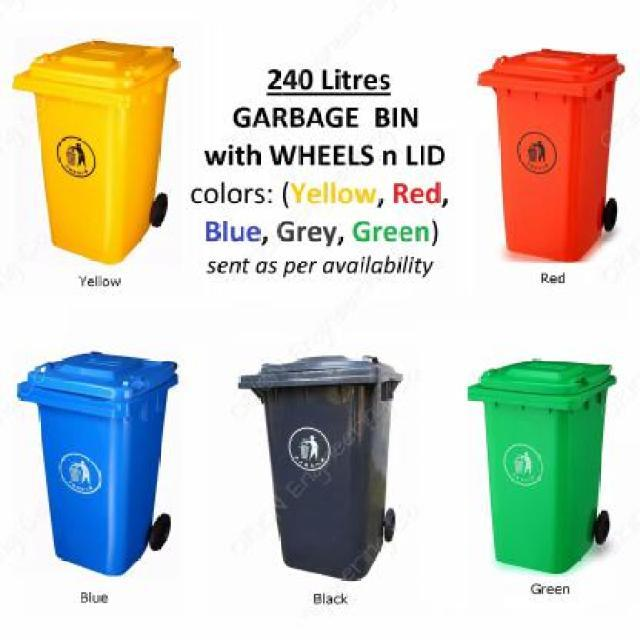garbage container: (9, 344, 202, 586), (3, 29, 197, 269), (231, 344, 417, 593), (458, 346, 638, 582), (473, 43, 638, 271)
